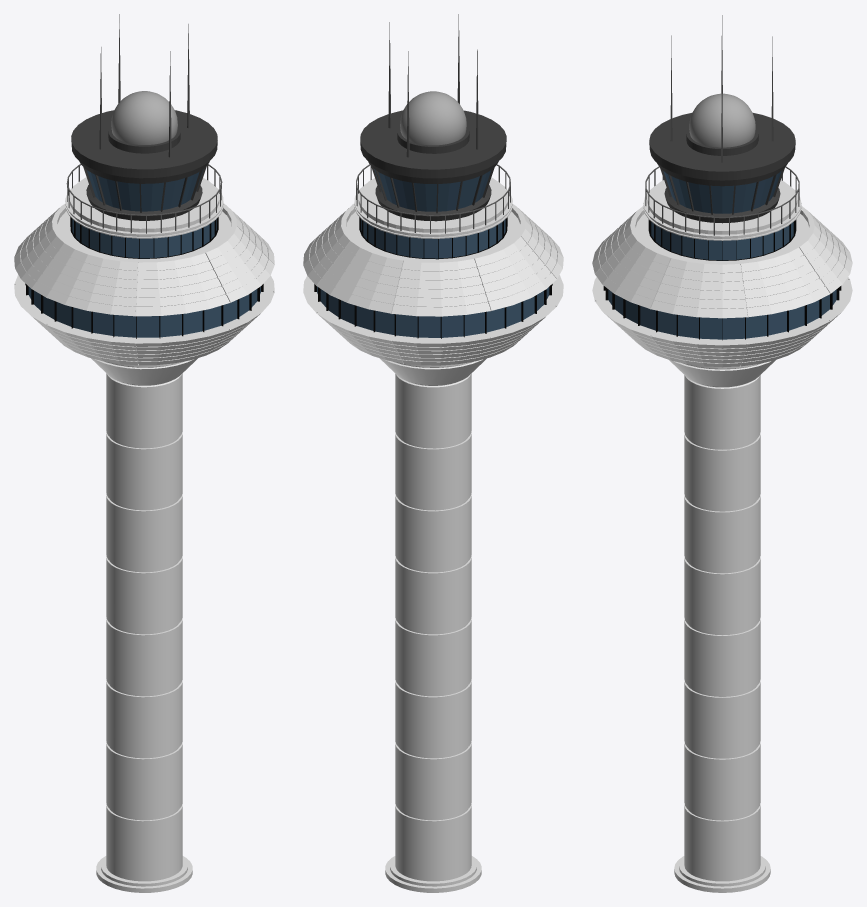
File: ATC Tower.fbx
The picture shows the model from 3 angles, left to right: view 1: azimuth 30°, elevation 25°; view 2: azimuth 150°, elevation 25°; view 3: azimuth 270°, elevation 25°; orthographic projection.
Visible parts, largest first — view 1: Pillar, Main Body, Windows, Top Body, Ball, Frame, Rails, Antenna; view 2: Pillar, Main Body, Windows, Top Body, Ball, Frame, Rails, Antenna; view 3: Pillar, Main Body, Windows, Top Body, Ball, Frame, Rails, Antenna.
Boxes of the visible parts, x1,y1,x2,y2 form: Pillar: (91,358,197,892); Main Body: (14,177,274,365); Windows: (28,169,260,337); Top Body: (71,110,217,220); Ball: (111,91,177,144); Frame: (25,217,263,338); Rails: (66,164,222,233); Antenna: (99,14,189,157); Pillar: (379,358,486,892); Main Body: (303,177,563,365); Windows: (317,169,549,337); Top Body: (360,110,506,221); Ball: (400,91,466,145); Frame: (314,217,552,338); Rails: (356,164,510,233); Antenna: (388,14,478,157); Pillar: (669,360,775,892); Main Body: (592,180,852,367); Windows: (608,171,836,339); Top Body: (649,113,795,223); Ball: (689,93,755,147); Frame: (603,219,841,340); Rails: (645,166,799,235); Antenna: (670,15,773,162).
Bounding box in the file's own units: 1856 × 6586 × 1856.
